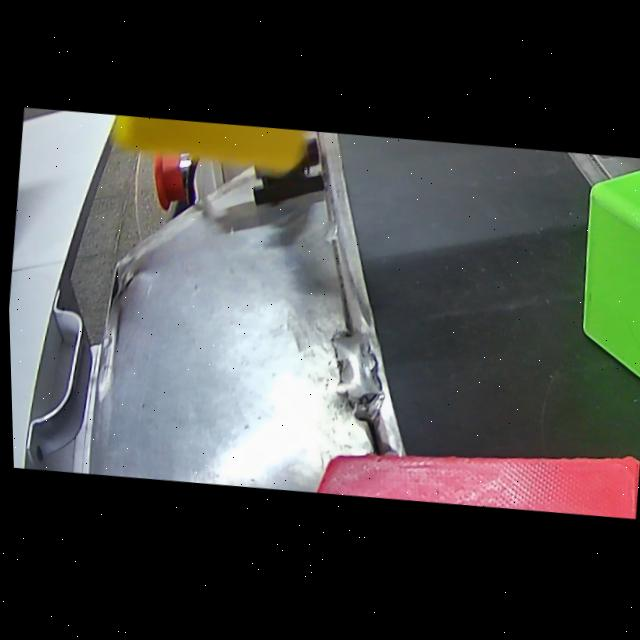greenBox: (554, 155, 640, 458)
redBox: (299, 414, 639, 527)
yellowBox: (102, 110, 369, 202)
